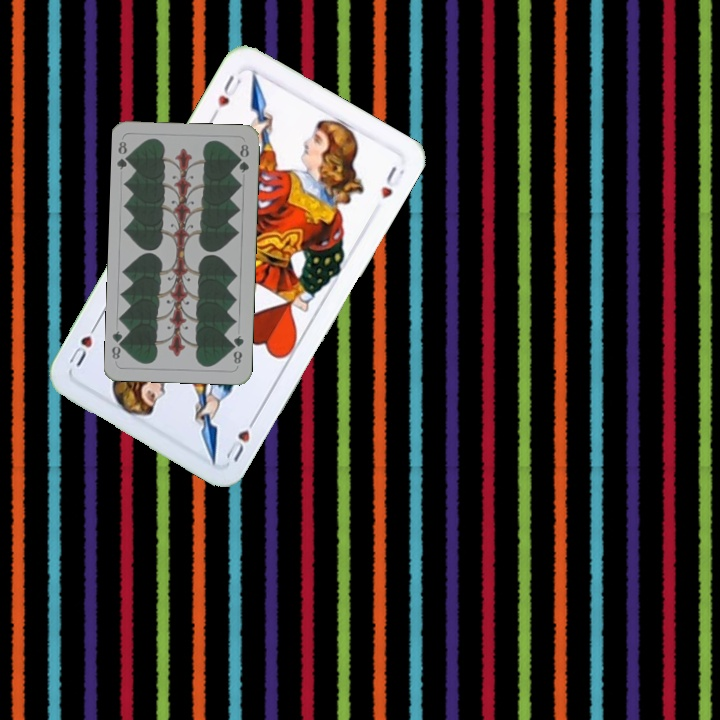G8: (114, 137, 134, 172), (228, 331, 246, 367)
HU: (221, 411, 260, 465), (208, 71, 245, 121)
